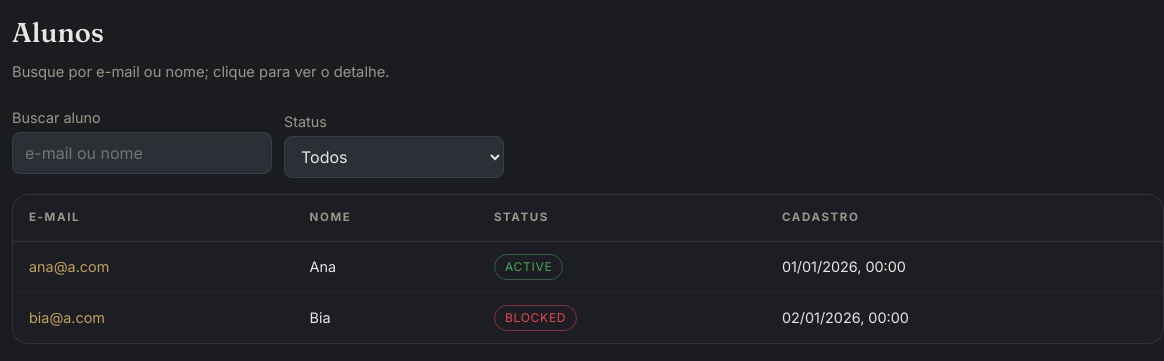
Test: AdminStudentsPage › lista alunos e busca pelo termo digitado
Check: the link "ana@a.com" is shown, box top-left (29, 258), bottom-right (109, 275)
Check: the link "bia@a.com" is shown, box top-left (29, 309), bottom-right (105, 326)
Step 1. Type "bia" into the field labelled "Buscar aluno" → [142, 154], box top-left (12, 132), bottom-right (272, 174)
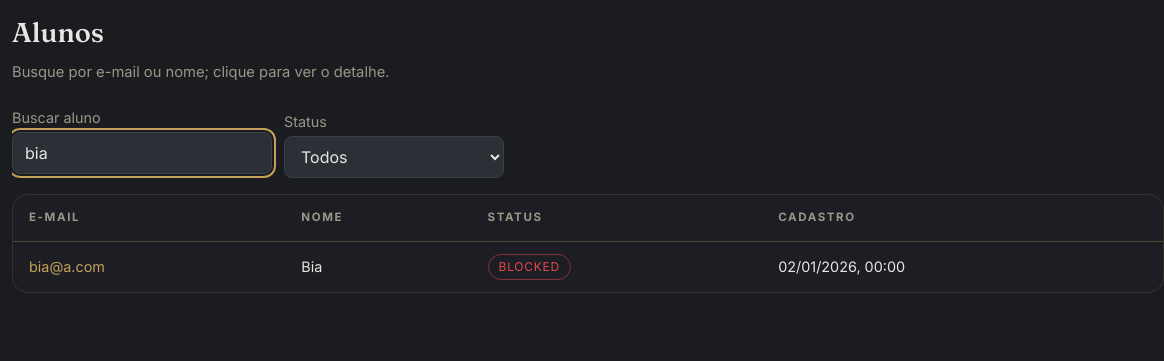
Check: the link "bia@a.com" is shown, box top-left (29, 258), bottom-right (105, 275)
Check: the link "ana@a.com" is gone
